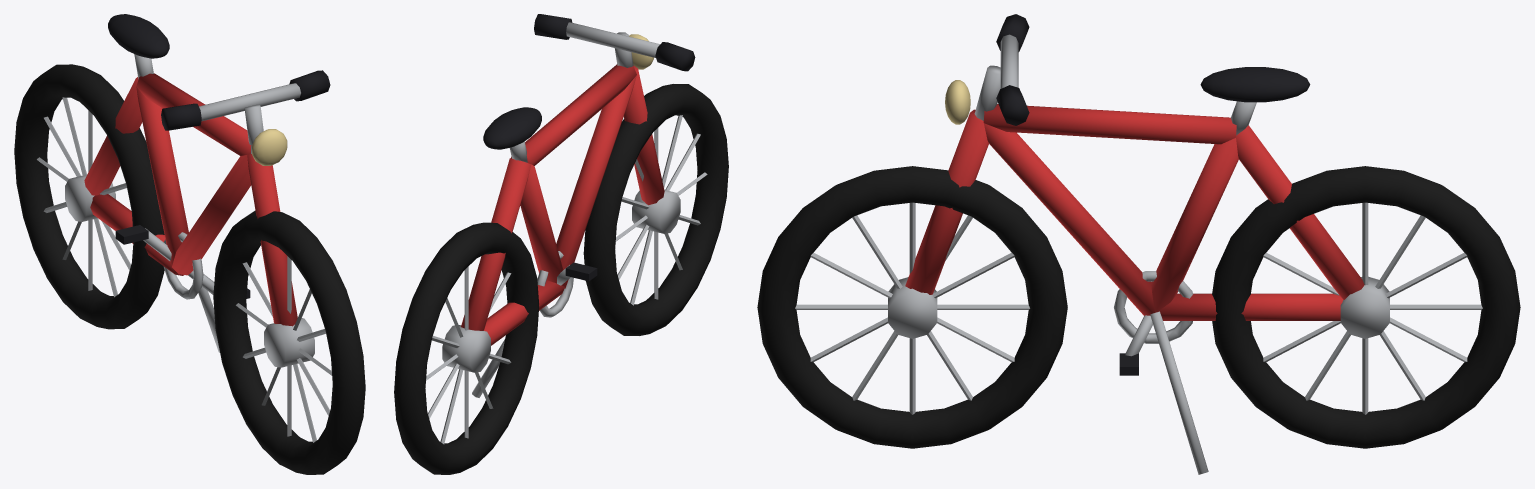
The picture shows the model from 3 angles, left to right: view 1: azimuth 30°, elevation 25°; view 2: azimuth 150°, elevation 25°; view 3: azimuth 270°, elevation 25°; orthographic projection. The views are drawn at different scales.
Visible parts, largest first — view 1: bicycle-toy; view 2: bicycle-toy; view 3: bicycle-toy.
Part boxes in pixels (bbox=[...]): bicycle-toy: bbox=[14, 14, 365, 474]; bicycle-toy: bbox=[394, 14, 728, 474]; bicycle-toy: bbox=[757, 14, 1520, 474].
Size of the model in its own units: 0.0654 by 0.1332 by 0.236.
